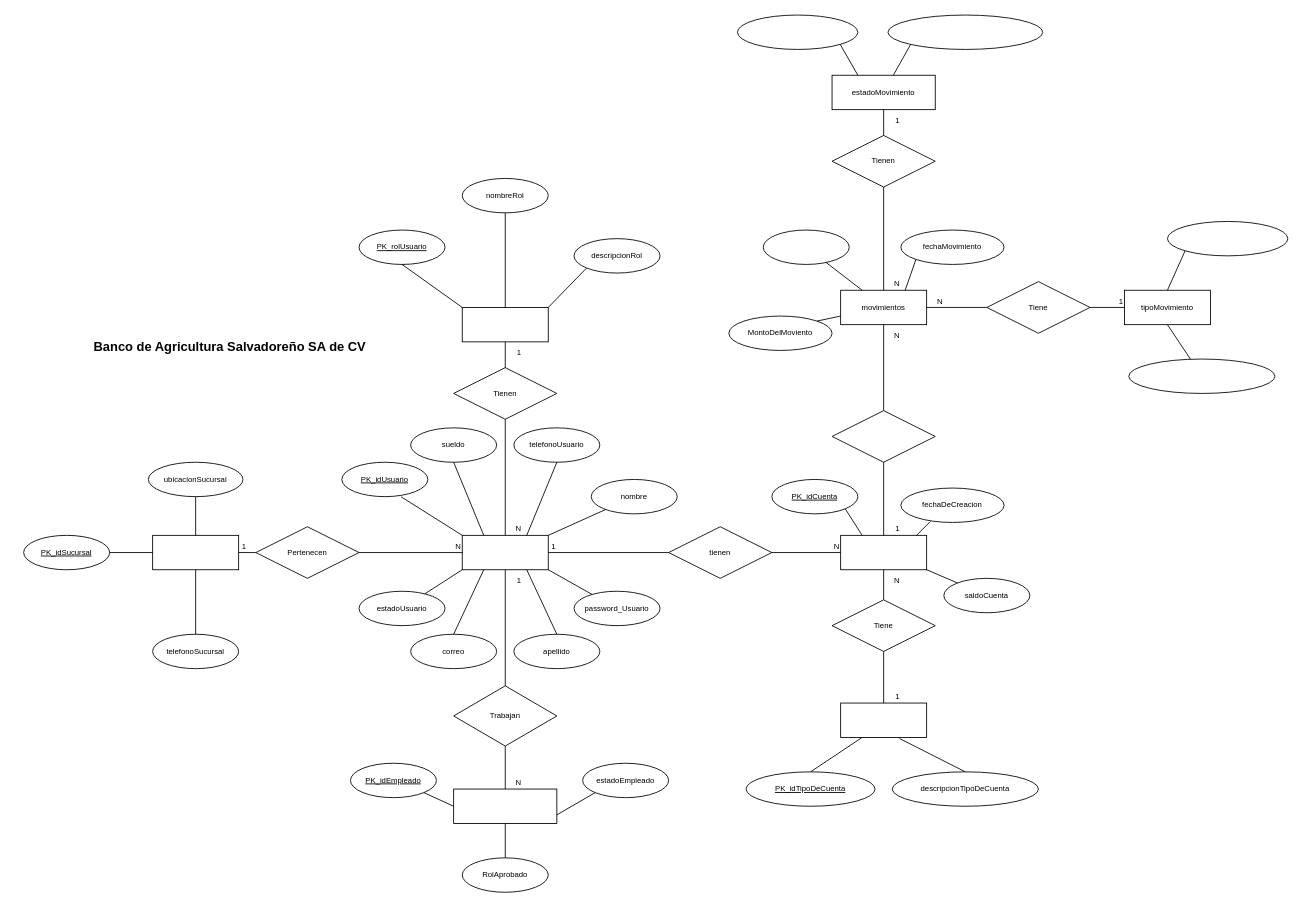
The diagram is 1303 pixels wide and 907 high, and some of its shapes have lost their labels. The shapes that lost their labels are listed below. From the top down, each one's box as (x1, y1, x2, y2) in pixels, then its label:
(737, 14, 858, 49): PK_idEstadoMovimiento
(887, 14, 1043, 49): descripcionEstadoMovimiento
(762, 229, 849, 264): PK_idMovimiento
(1167, 221, 1288, 256): PK_idTipoMovimiento
(461, 307, 548, 342): rolUsuarios
(1128, 358, 1275, 393): descripcionTipoMovimiento
(831, 410, 935, 462): Hace
(152, 534, 239, 570): sucursal
(461, 534, 548, 570): usuarios
(840, 534, 927, 570): cuentas
(840, 702, 927, 737): tipoDeCuenta
(453, 788, 557, 823): empleadosSucursal
